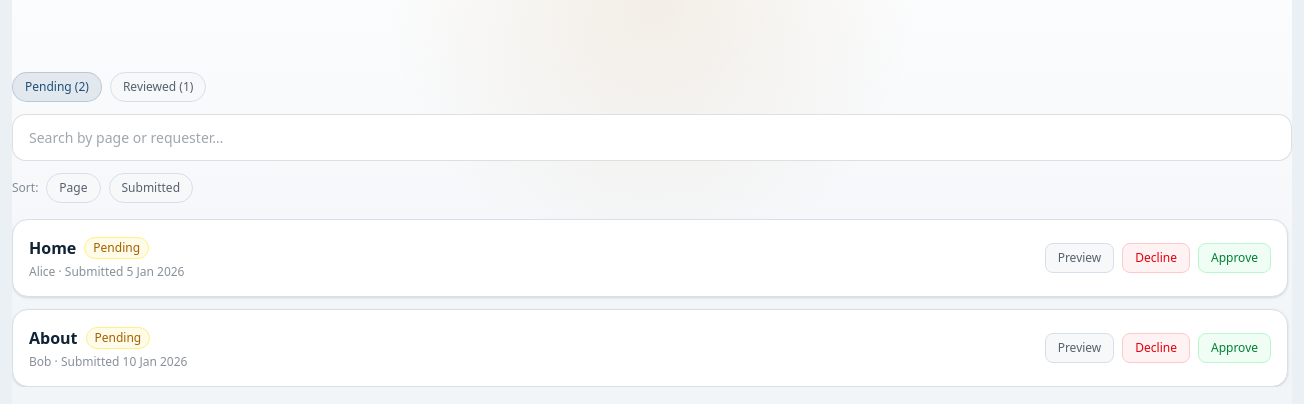
Test case: RequestsTab › switches to reviewed requests when the Reviewed toggle is clicked
This screenshot has width=1304, height=404.
Check: the text "Alice · Submitted 5 Jan 2026" is shown, box [29,263,184,280]
Click the button "Reviewed (1)". click: (158, 87)
box: [110,72,206,102]
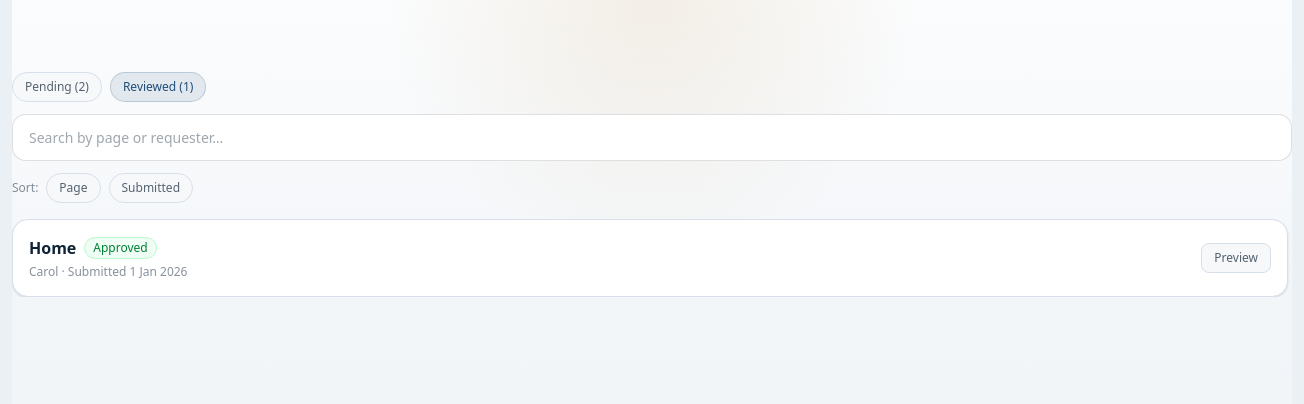
Check: the text "Carol · Submitted 1 Jan 2026" is shown, box [29,263,188,280]
Check: the text "Alice" is gone
